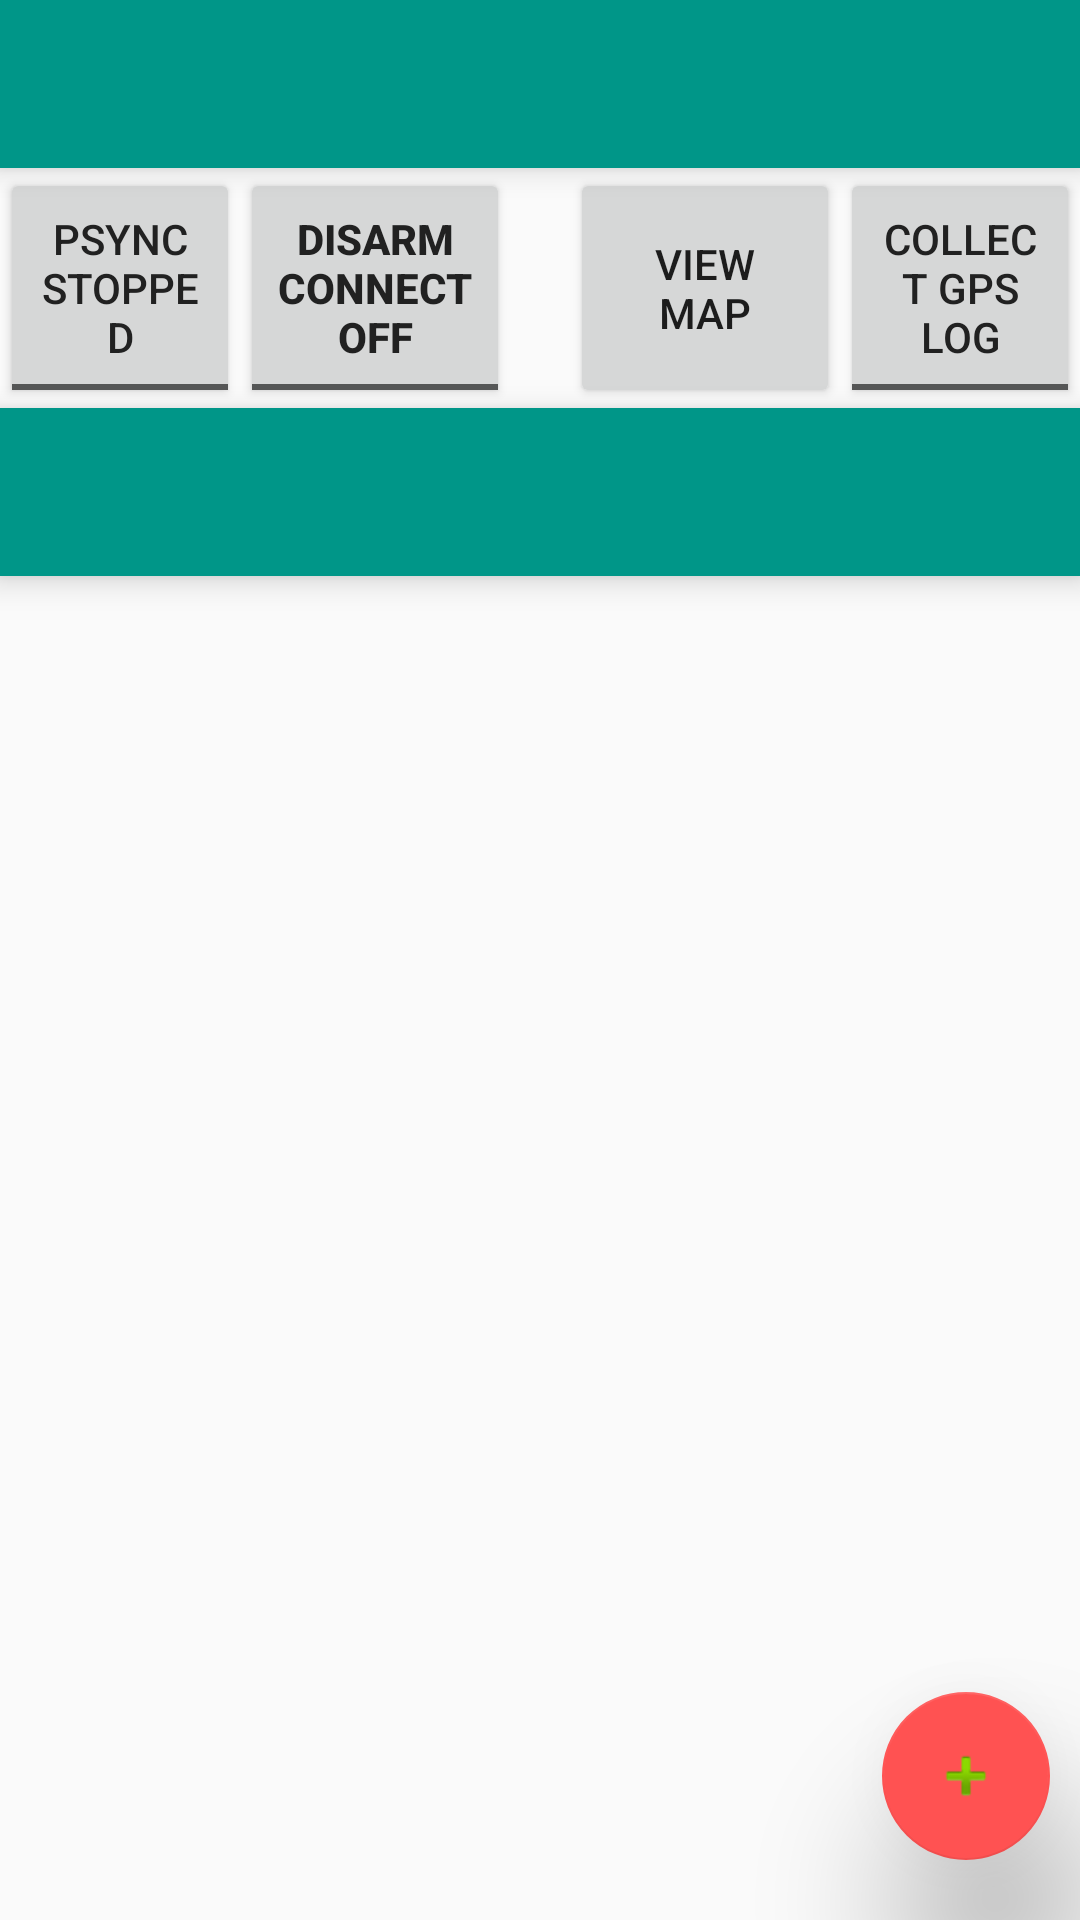

Where icons sit on this 1080 × 1920 app screen, as (x1, y1, x2, y2):
add: (882, 1692, 1050, 1860)
